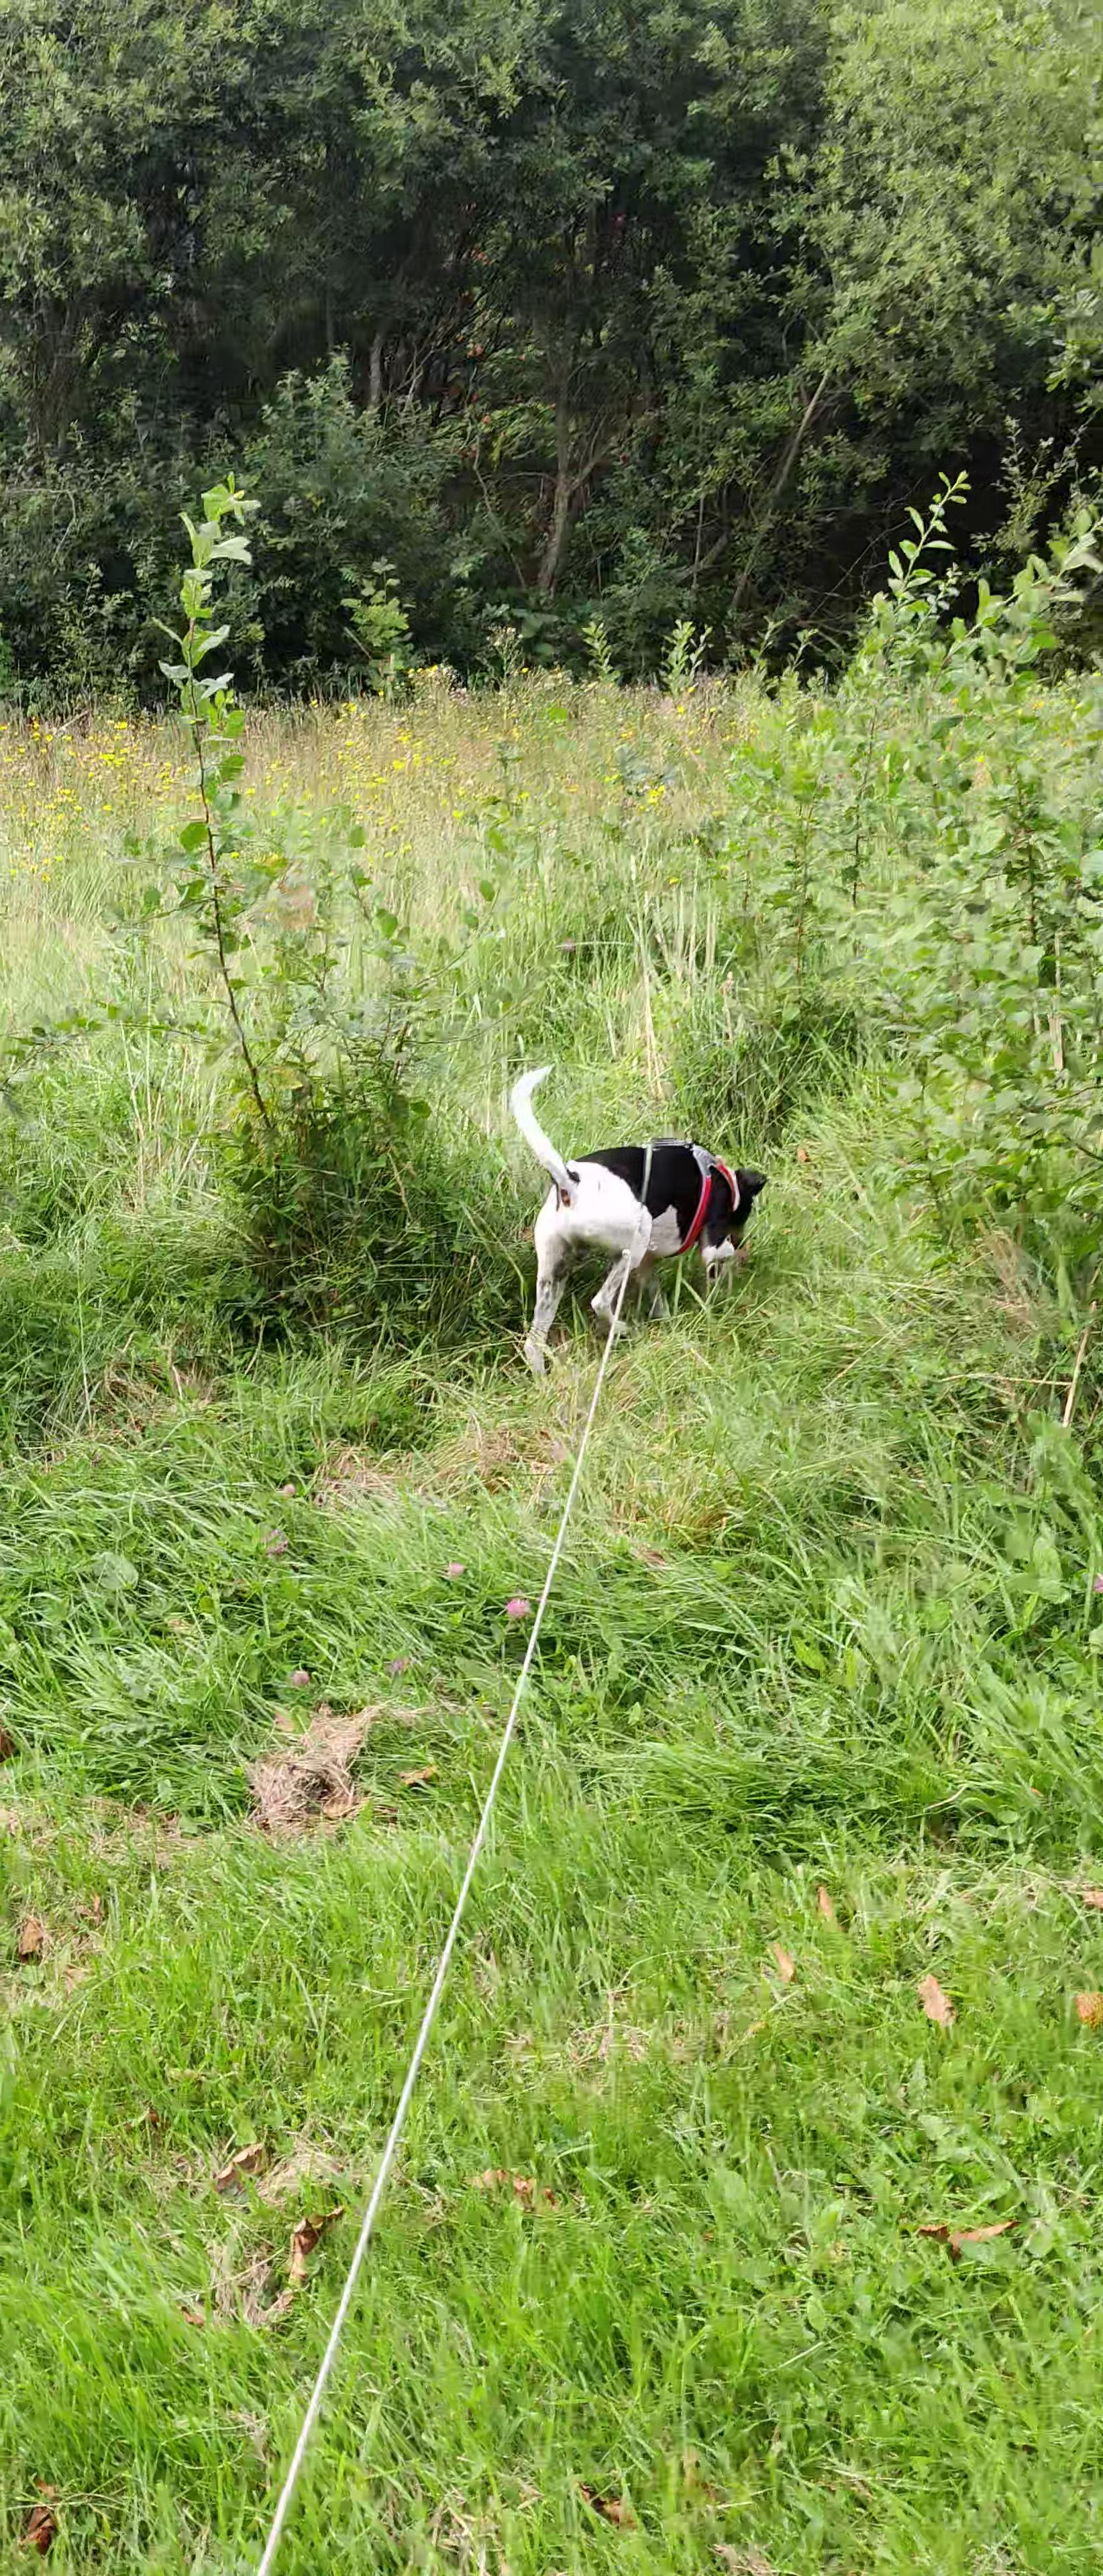Dog: (493, 1053, 771, 1382)
